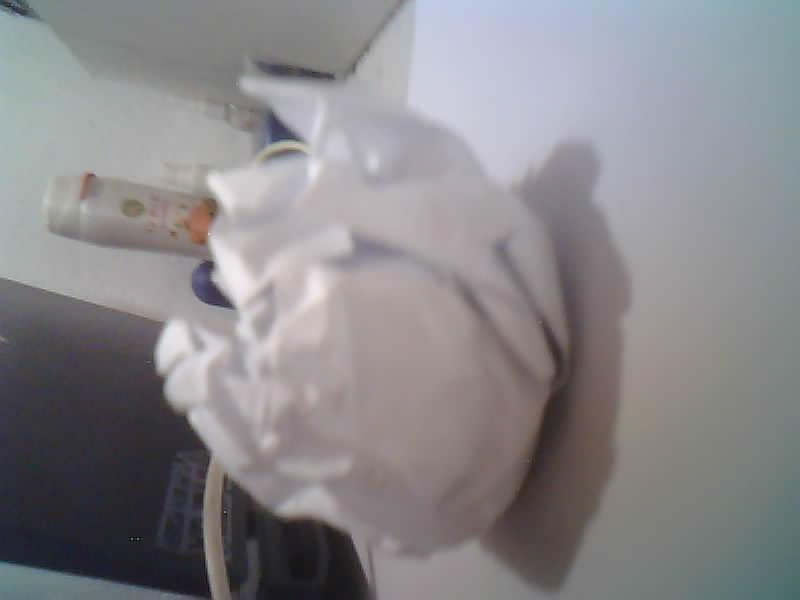biodegradable: (155, 74, 570, 555)
